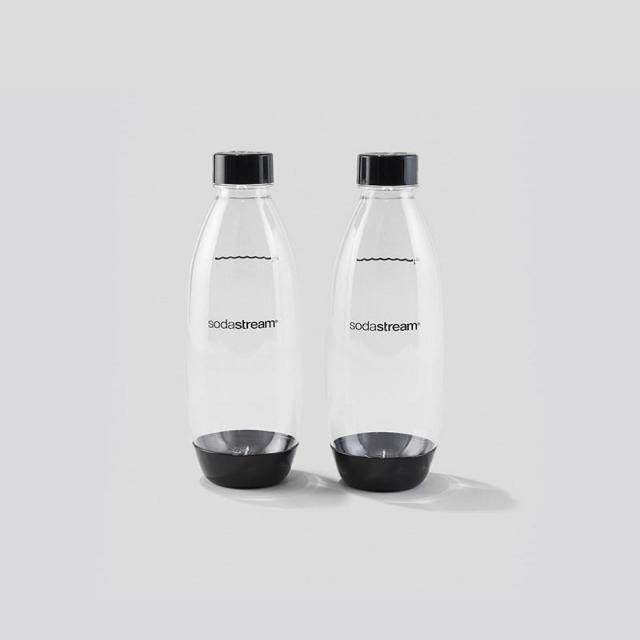plastic_bottle: (192, 147, 305, 492), (334, 156, 447, 497)
